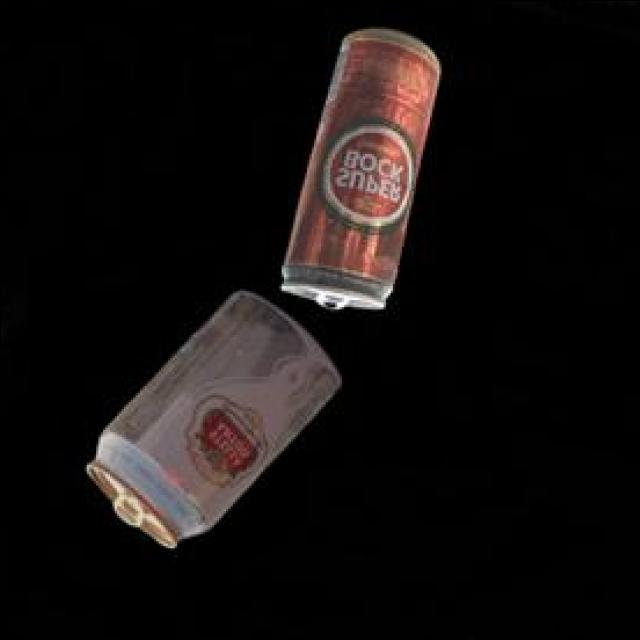logam: (82, 293, 337, 551), (277, 31, 435, 312)
